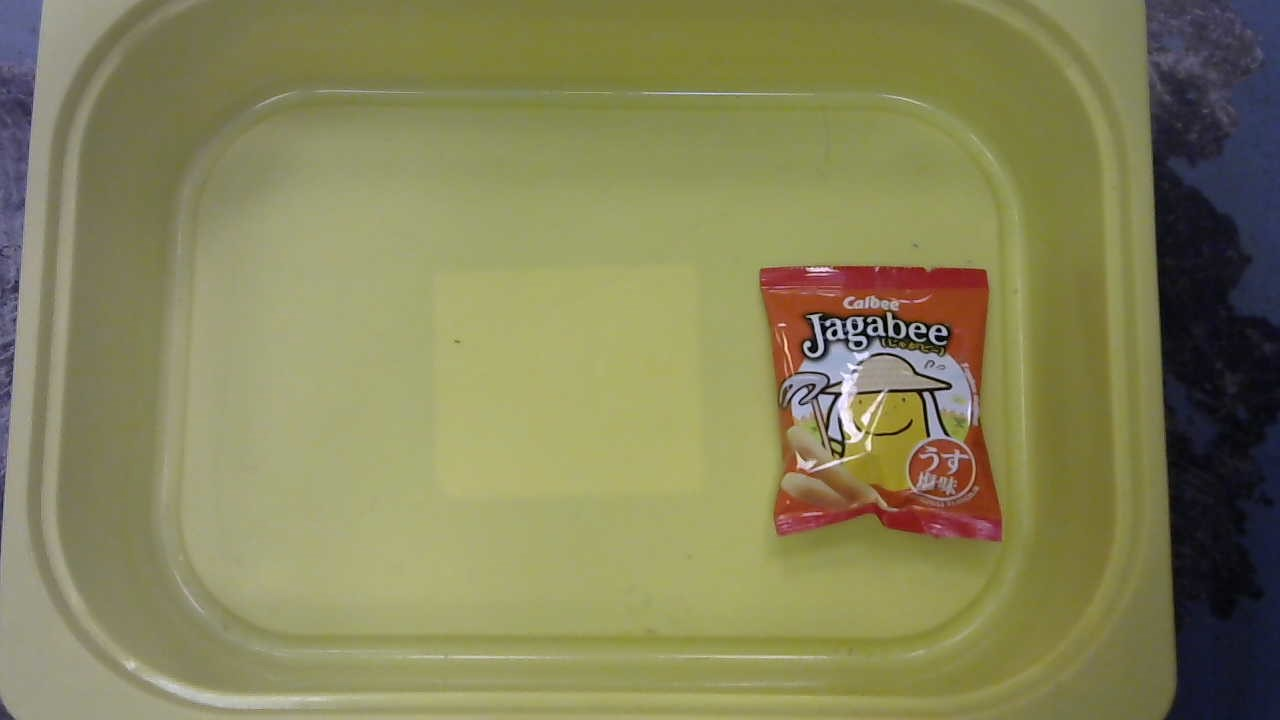JagabeeFarmer: (745, 250, 1015, 557)
